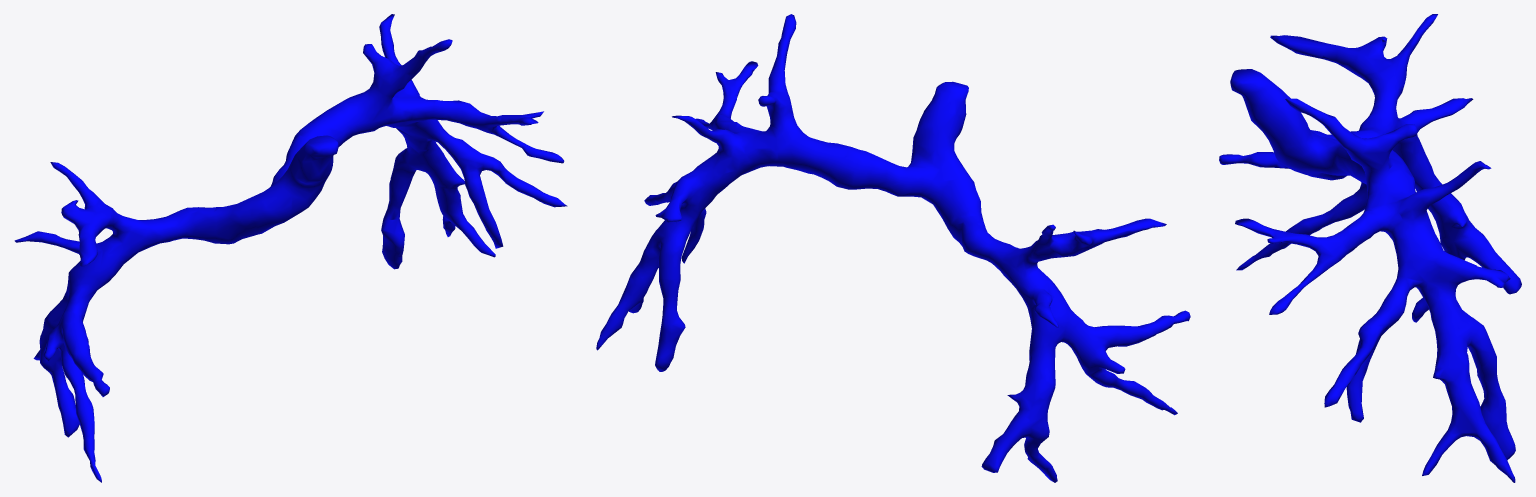
3 renders of one model, left to right at view 1: azimuth 30°, elevation 25°; view 2: azimuth 150°, elevation 25°; view 3: azimuth 270°, elevation 25°, orthographic. The views are drawn at different scales.
Parts seen in each view (by area): view 1: Polygonal_Model_2_Triangles_0; view 2: Polygonal_Model_2_Triangles_0; view 3: Polygonal_Model_2_Triangles_0.
Part boxes in pixels (box(x1,y1,x2,y2)): Polygonal_Model_2_Triangles_0: box(14, 14, 567, 482); Polygonal_Model_2_Triangles_0: box(596, 14, 1190, 482); Polygonal_Model_2_Triangles_0: box(1219, 14, 1521, 482).
Bounding box in the file's own units: 2.2 × 1.47 × 1.
